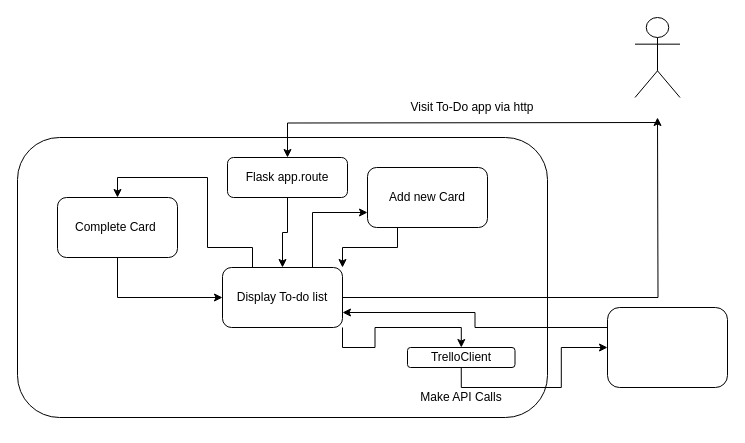
Image size: 745x443. Some labels were removed from this diagram. Here are the shapes that lost their labels. From the top down, the box of each, then its label:
(634, 16, 680, 98): User
(16, 136, 548, 418): Flask Web Application
(606, 306, 728, 388): Trello Third party system that stores to-do list data and state.
